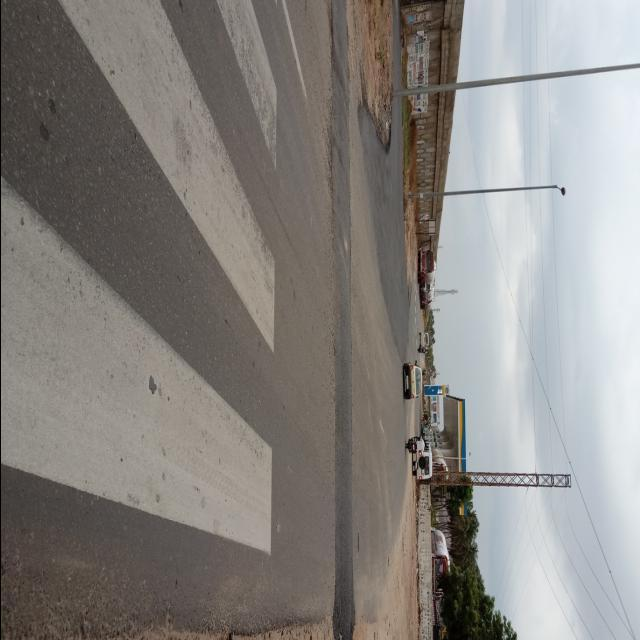Speed_Breaker: (325, 4, 363, 640), (326, 0, 356, 639)
